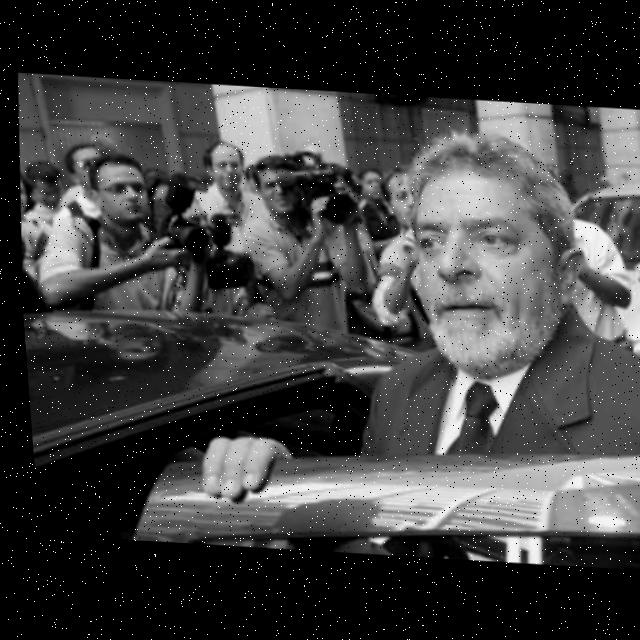face: (408, 156, 588, 386), (88, 157, 149, 230), (258, 158, 297, 220), (203, 143, 245, 191), (385, 176, 420, 227), (362, 171, 385, 209)
